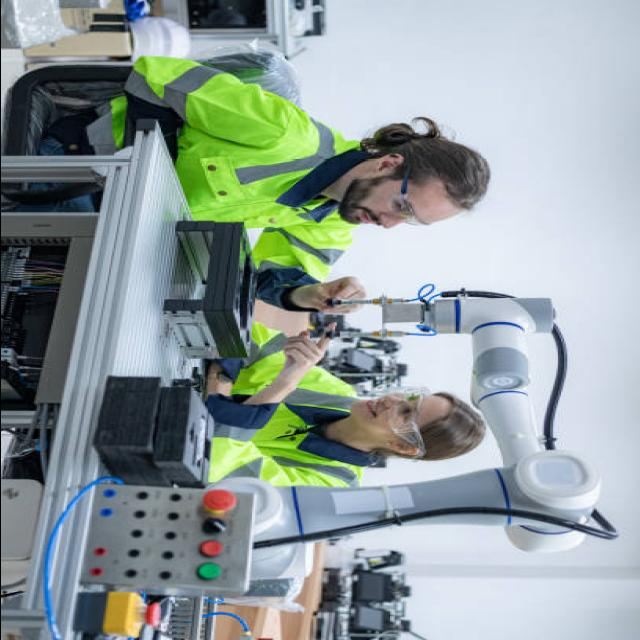Robotic-arm: (244, 285, 616, 567)
